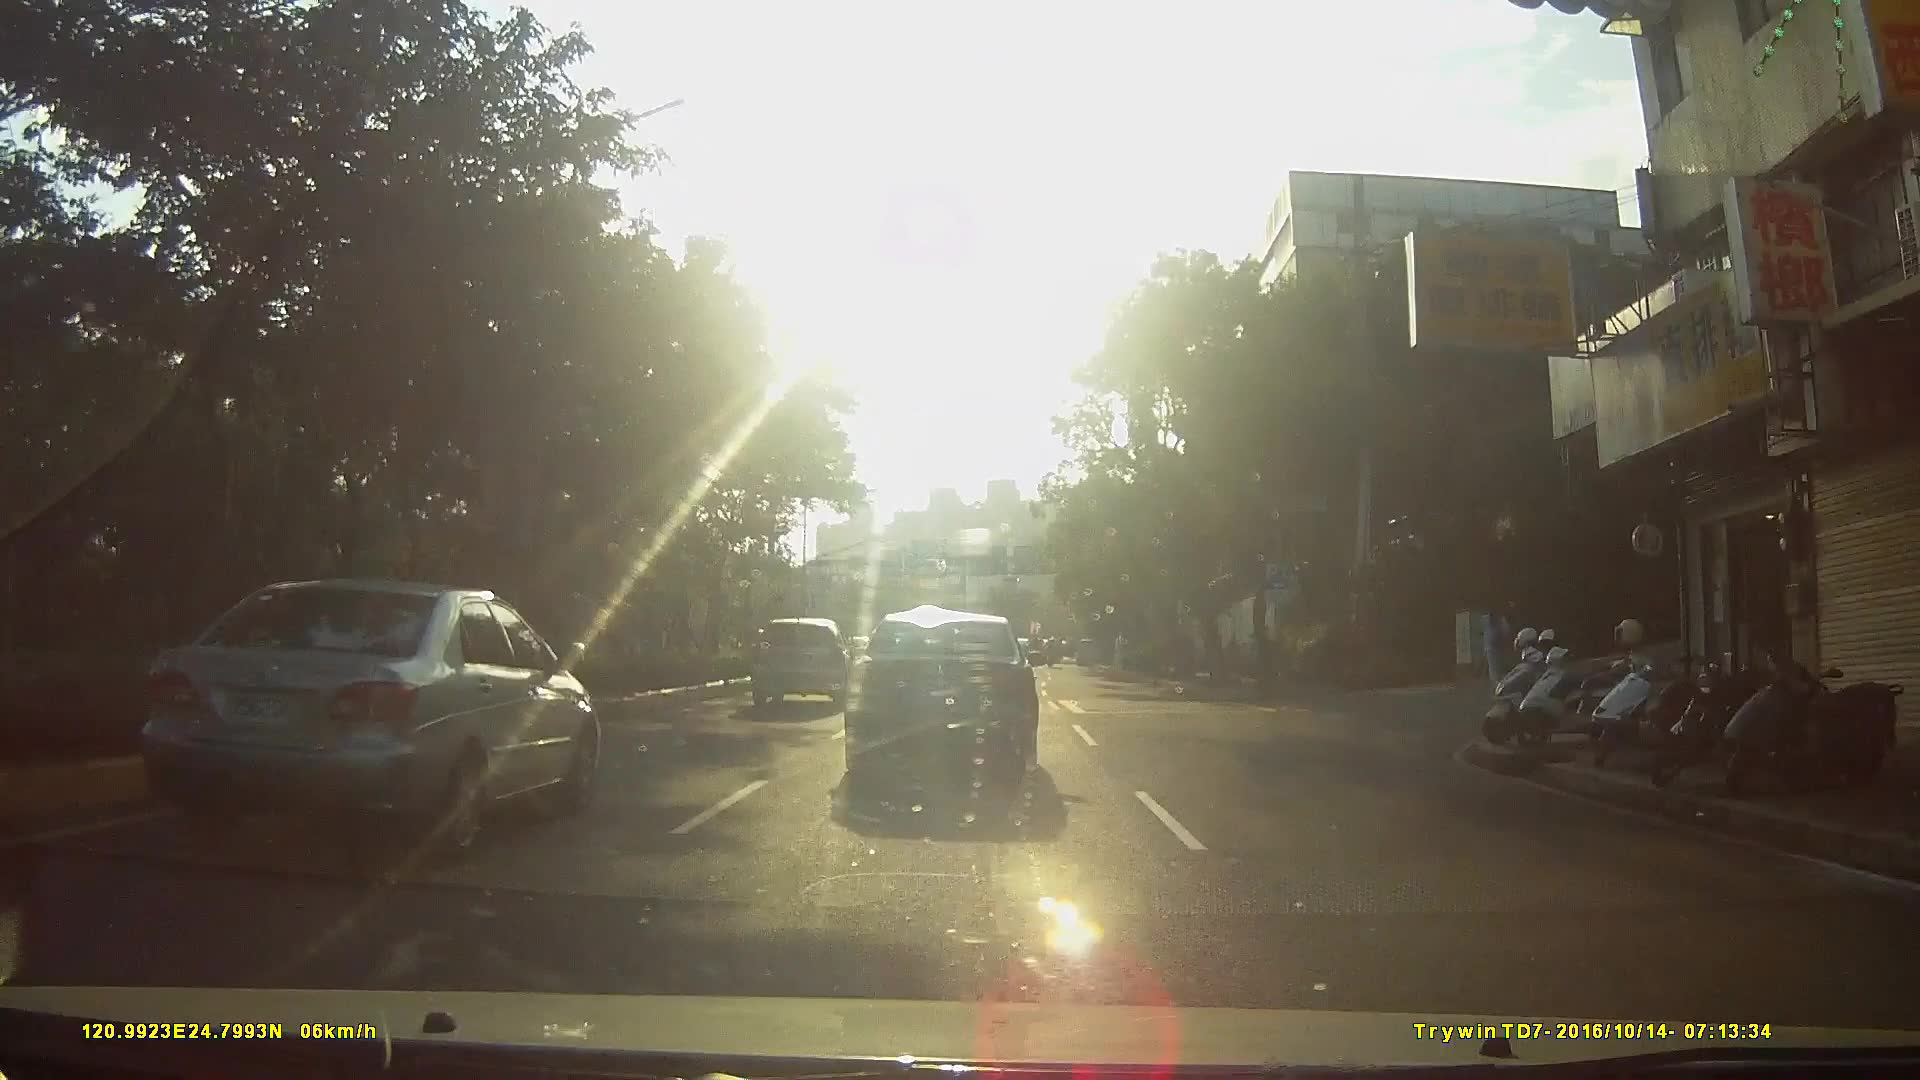pedestrian: (1478, 594, 1526, 699)
vehicle: (92, 579, 608, 872), (848, 611, 1060, 795), (749, 617, 858, 708), (1074, 636, 1106, 667)
